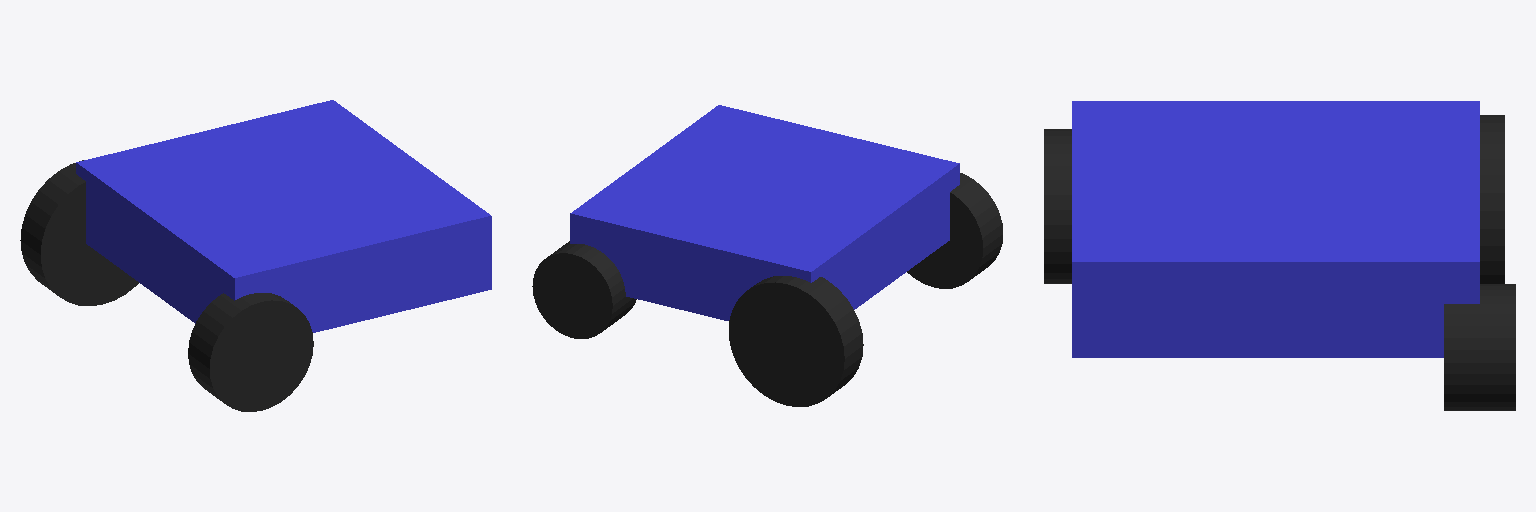
URDF robot description (evolved_robot):
<?xml version="1.0"?>
<robot name="evolved_robot">
  <material name="metal">
    <color rgba="0.7 0.7 0.7 1.0"/>
  </material>
  <material name="plastic">
    <color rgba="0.3 0.3 0.9 1.0"/>
  </material>
  <material name="rubber">
    <color rgba="0.1 0.1 0.1 1.0"/>
  </material>
  <material name="red">
    <color rgba="1.0 0.0 0.0 1.0"/>
  </material>
  <material name="wheel_material">
    <color rgba="0.2 0.2 0.2 1.0"/>
  </material>
  <link name="base_link">
    <visual>
      <geometry><box size="0.314937614659212 0.3361883288096972 0.08684391380071729"/></geometry>
      <material name="plastic"/>
    </visual>
    <collision>
      <geometry><box size="0.314937614659212 0.3361883288096972 0.08684391380071729"/></geometry>
    </collision>
    <inertial>
      <mass value="5.0"/>
      <inertia ixx="0.10047038149340291" ixy="0" ixz="0" 
               iyy="0.08893963874288395" iyz="0" 
               izz="0.17684024462924278"/>
    </inertial>
  </link>
  <link name="link1">
    <visual>
      <geometry>
        <cylinder radius="0.05250731627988842" length="0.059354048234470755"/>
      </geometry>
      <material name="wheel_material"/>
    </visual>
    <collision>
      <geometry>
        <cylinder radius="0.05250731627988842" length="0.059354048234470755"/>
      </geometry>
    </collision>
    <inertial>
      <mass value="1.0"/>
      <inertia ixx="0.0009828298192140492" ixy="0" ixz="0" 
               iyy="0.0009828298192140492" iyz="0" 
               izz="0.001378509131458118"/>
    </inertial>
  </link>
  <joint name="joint1" type="continuous">
    <parent link="base_link"/>
    <child link="link1"/>
    <origin xyz="0.137468807329606 0.1680941644048486 -0.043421956900358646" rpy="1.5708 0 0"/>
    <axis xyz="0 0 1"/>
    <dynamics damping="0.7784165874908638" friction="0.1"/>
  </joint>
  <link name="link2">
    <visual>
      <geometry>
        <cylinder radius="0.07597663445765272" length="0.04272438068433486"/>
      </geometry>
      <material name="wheel_material"/>
    </visual>
    <collision>
      <geometry>
        <cylinder radius="0.07597663445765272" length="0.04272438068433486"/>
      </geometry>
    </collision>
    <inertial>
      <mass value="1.0"/>
      <inertia ixx="0.0015952266379496095" ixy="0" ixz="0" 
               iyy="0.0015952266379496095" iyz="0" 
               izz="0.0028862244917558914"/>
    </inertial>
  </link>
  <joint name="joint2" type="continuous">
    <parent link="base_link"/>
    <child link="link2"/>
    <origin xyz="-0.137468807329606 0.1680941644048486 -0.043421956900358646" rpy="1.5708 0 0"/>
    <axis xyz="0 0 1"/>
    <dynamics damping="0.9332973929305248" friction="0.1"/>
  </joint>
  <link name="link3">
    <visual>
      <geometry>
        <cylinder radius="0.06387249660562594" length="0.045823926981774545"/>
      </geometry>
      <material name="wheel_material"/>
    </visual>
    <collision>
      <geometry>
        <cylinder radius="0.06387249660562594" length="0.045823926981774545"/>
      </geometry>
    </collision>
    <inertial>
      <mass value="1.0"/>
      <inertia ixx="0.0011949099793281746" ixy="0" ixz="0" 
               iyy="0.0011949099793281746" iyz="0" 
               izz="0.0020398479113178485"/>
    </inertial>
  </link>
  <joint name="joint3" type="continuous">
    <parent link="base_link"/>
    <child link="link3"/>
    <origin xyz="-0.137468807329606 -0.1680941644048486 -0.043421956900358646" rpy="1.5708 0 0"/>
    <axis xyz="0 0 1"/>
    <dynamics damping="0.4557383346281597" friction="0.1"/>
  </joint>
</robot>

--- What the picture shows (computed from the rendered views, not written in the file) ---
3 views of the same robot in one strip: view 1: azimuth 30°, elevation 25°; view 2: azimuth 150°, elevation 25°; view 3: azimuth 270°, elevation 25° (orthographic).
Model evolved_robot with 4 links and 3 joints (3 continuous), rooted at base_link, posed all joints at 0.
Visible links, largest first — view 1: base_link, link3, link2; view 2: base_link, link2, link1, link3; view 3: base_link, link1, link3, link2.
Boxes of the visible links, x1,y1,x2,y2 form: base_link: (76,100,491,332); link3: (188,293,313,411); link2: (20,160,138,305); base_link: (570,105,959,320); link2: (729,276,863,406); link1: (532,241,636,338); link3: (907,173,1002,288); base_link: (1072,101,1479,357); link1: (1444,284,1515,410); link3: (1044,129,1071,283); link2: (1480,115,1504,283).
Size in the robot's own frame: 0.4034 by 0.3888 by 0.1628 metres.
Geometry: primitives only (box / cylinder / sphere), no mesh files.